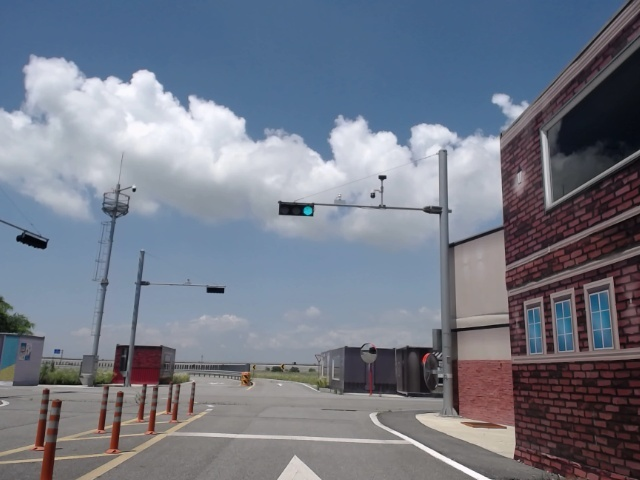green_3: (277, 201, 318, 217)
